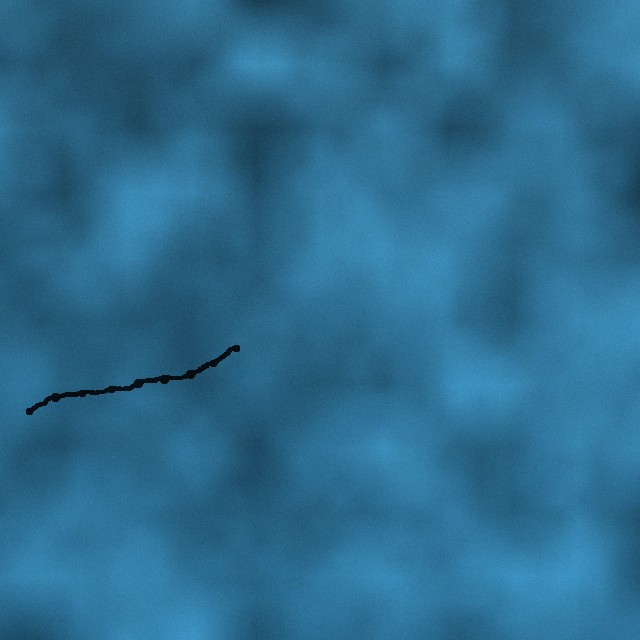crack: (23, 344, 240, 415)
